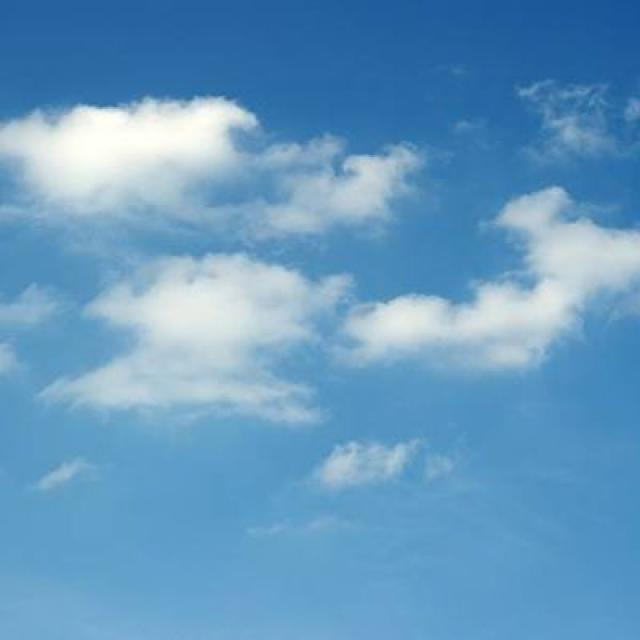Cc: (1, 85, 640, 498)
